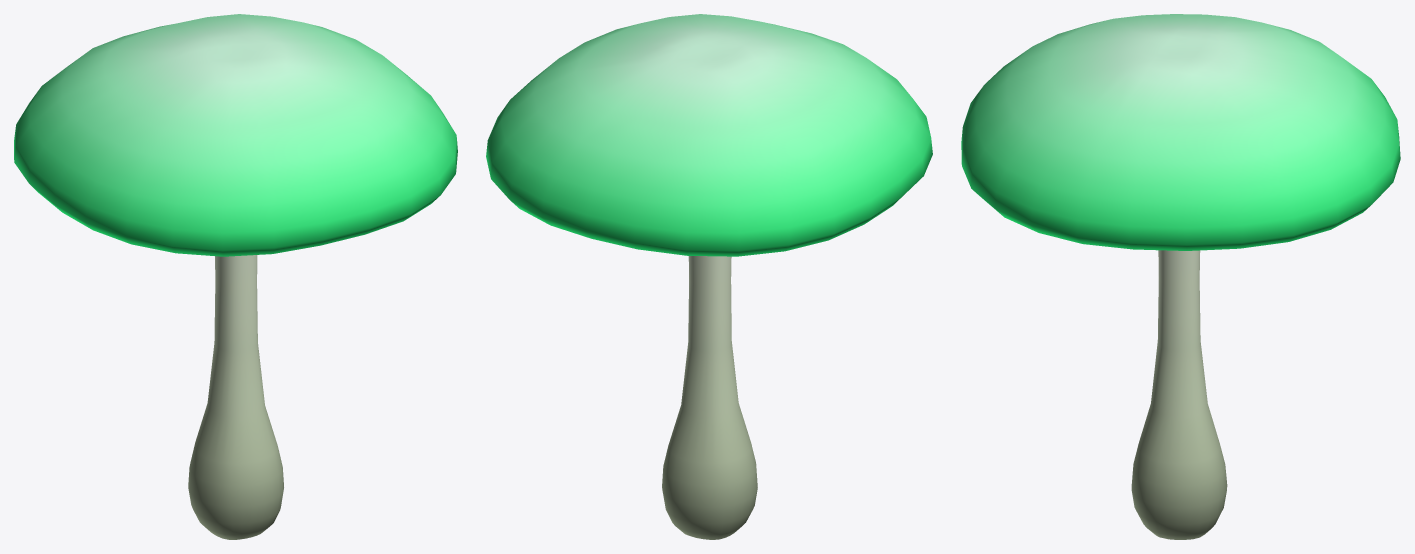
The model's file is Mushroom_0001_0030.fbx.
3 renders of one model, left to right at view 1: azimuth 30°, elevation 25°; view 2: azimuth 150°, elevation 25°; view 3: azimuth 270°, elevation 25°, orthographic.
Parts seen in each view (by area): view 1: Mushroom_0001_0030; view 2: Mushroom_0001_0030; view 3: Mushroom_0001_0030.
Part boxes in pixels (x1,y1,x2,y2): Mushroom_0001_0030: (14, 14, 457, 539); Mushroom_0001_0030: (486, 14, 932, 539); Mushroom_0001_0030: (961, 14, 1400, 539).
Size of the model in its own units: 0.2004 by 0.2457 by 0.2023.
1 material, 1 textured.
